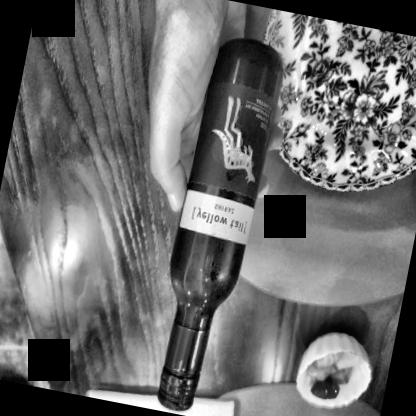yellowtail: (179, 87, 277, 246)
